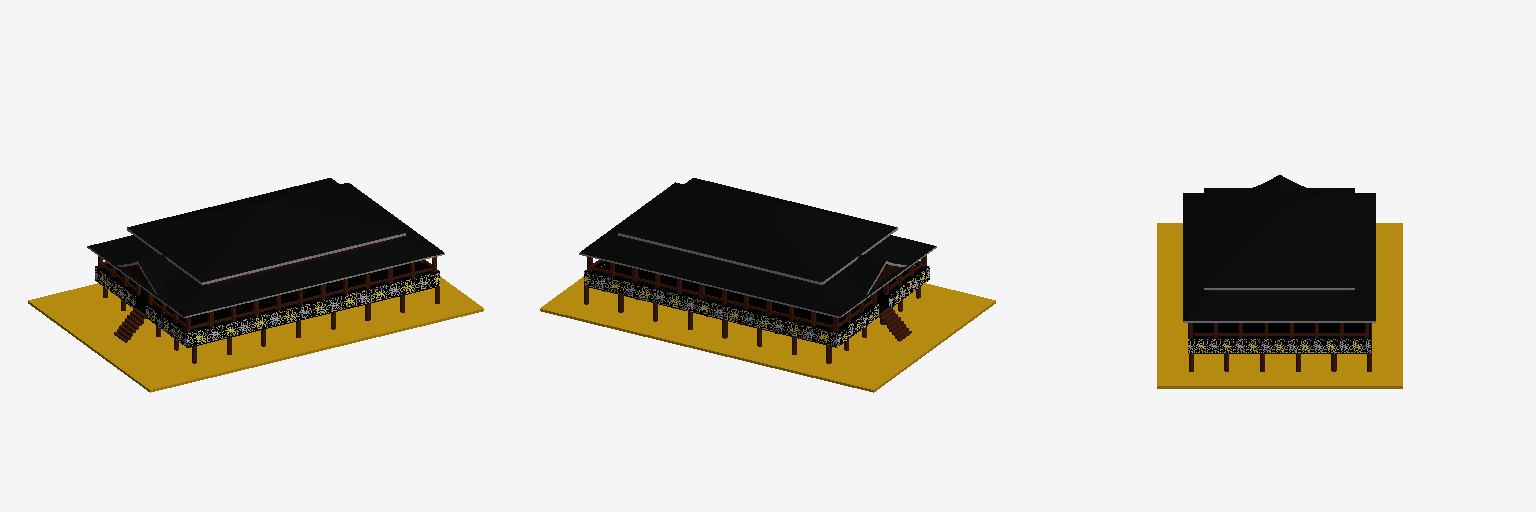
The picture shows the model from 3 angles: view 1: azimuth 30°, elevation 25°; view 2: azimuth 150°, elevation 25°; view 3: azimuth 270°, elevation 25°; orthographic projection.
Visible parts, largest first — view 1: Atap, Plane.001, Plane, Cube, Cylinder, Pole2, Siding1, Stair; view 2: Atap, Plane.001, Plane, Cube, Cylinder, Pole2, Siding1, Stair; view 3: Atap, Plane.001, Plane, Cube, Cylinder.
Boxes of the visible parts, box(x1,y1,x2,y2) form: Atap: box(87, 178, 444, 317); Plane.001: box(28, 276, 483, 392); Plane: box(95, 261, 439, 347); Cube: box(191, 269, 386, 326); Cylinder: box(103, 286, 439, 363); Pole2: box(208, 257, 436, 326); Siding1: box(103, 261, 432, 328); Stair: box(114, 308, 146, 342); Atap: box(579, 178, 936, 317); Plane.001: box(540, 276, 995, 392); Plane: box(584, 261, 929, 347); Cube: box(638, 269, 832, 326); Cylinder: box(584, 285, 920, 363); Pole2: box(591, 258, 815, 326); Siding1: box(592, 261, 920, 327); Stair: box(879, 307, 911, 341); Atap: box(1183, 175, 1375, 322); Plane.001: box(1157, 223, 1402, 388); Plane: box(1188, 323, 1370, 353); Cube: box(1220, 323, 1339, 332); Cylinder: box(1189, 323, 1371, 371).
Size of the model in its own units: 42.35 by 12.36 by 26.91.
8 materials, 1 textured.